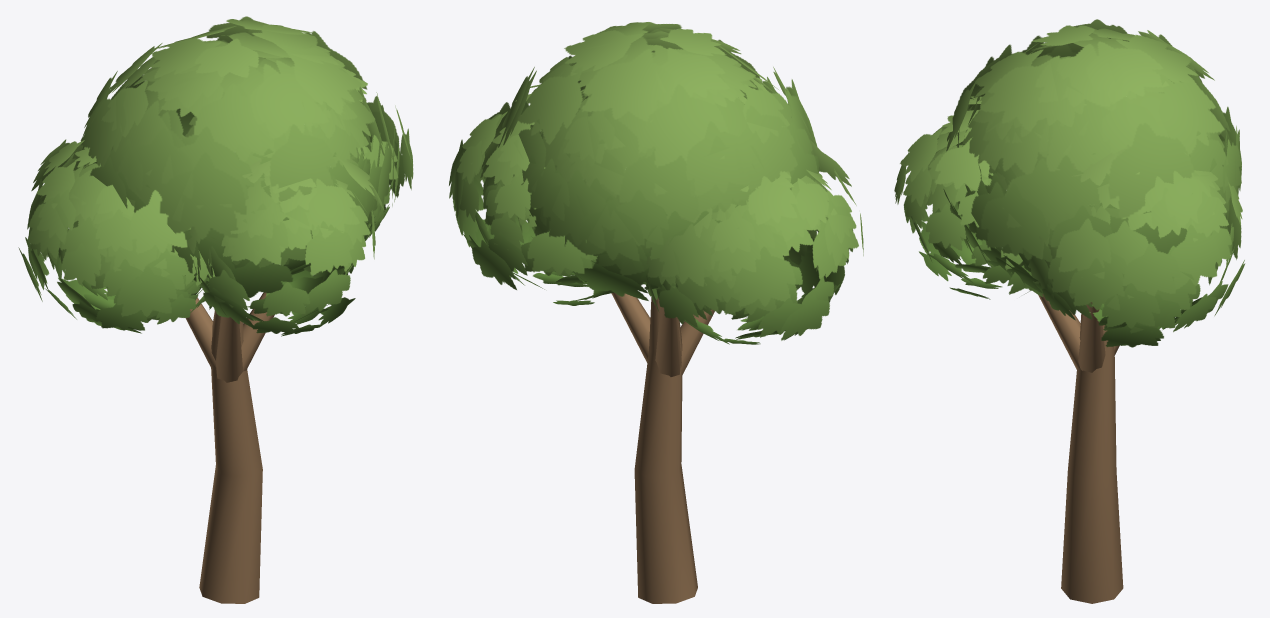
Rendered from tree-83.glb.
3 views of the same model, side by side, from view 1: azimuth 30°, elevation 25°; view 2: azimuth 150°, elevation 25°; view 3: azimuth 270°, elevation 25° (orthographic).
Parts seen in each view (by area): view 1: round leafy tree; view 2: round leafy tree; view 3: round leafy tree.
Boxes of the visible parts, box(x1,y1,x2,y2) form: round leafy tree: box(18, 16, 413, 603); round leafy tree: box(449, 22, 863, 603); round leafy tree: box(894, 19, 1245, 603).
Size of the model in its own units: 4.51 by 6.35 by 3.73.
1 material, 1 textured.
